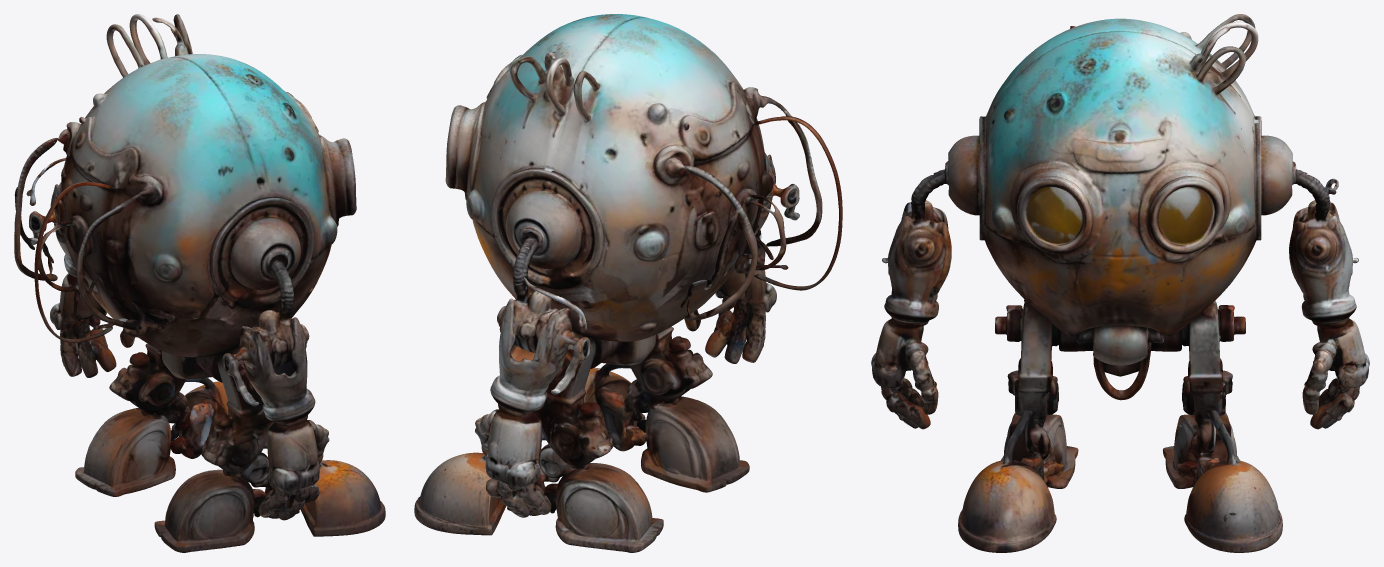
Rendered from robot.glb.
The picture shows the model from 3 angles, left to right: view 1: azimuth 30°, elevation 25°; view 2: azimuth 150°, elevation 25°; view 3: azimuth 270°, elevation 25°; orthographic projection. The views are drawn at different scales.
Visible parts, largest first — view 1: tripo_node_3790c885-dbc6-460a-9d3e-164d49b632ff; view 2: tripo_node_3790c885-dbc6-460a-9d3e-164d49b632ff; view 3: tripo_node_3790c885-dbc6-460a-9d3e-164d49b632ff.
Part boxes in pixels (left/top/right/bottom): tripo_node_3790c885-dbc6-460a-9d3e-164d49b632ff: left=14, top=14, right=385, bottom=552; tripo_node_3790c885-dbc6-460a-9d3e-164d49b632ff: left=414, top=14, right=842, bottom=552; tripo_node_3790c885-dbc6-460a-9d3e-164d49b632ff: left=871, top=14, right=1369, bottom=552.
Bounding box in the file's own units: 0.7135 × 0.9484 × 0.917.
Materials: 1 (1 with a texture image).
